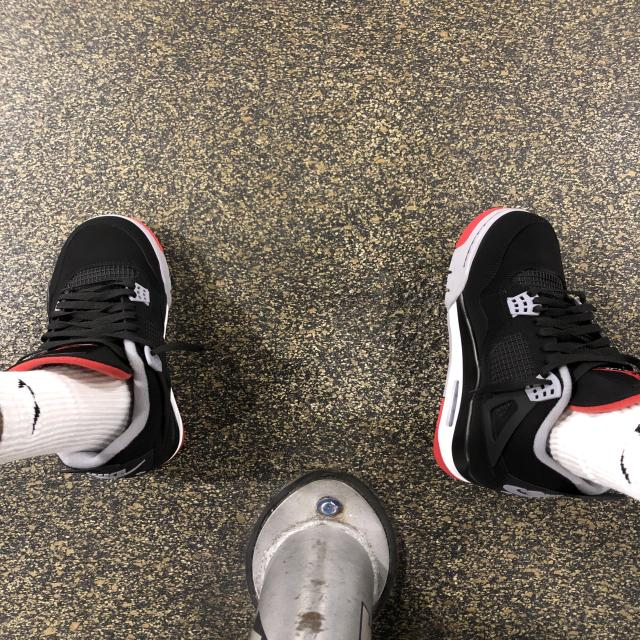shoe: (431, 205, 636, 508), (11, 213, 188, 488)
